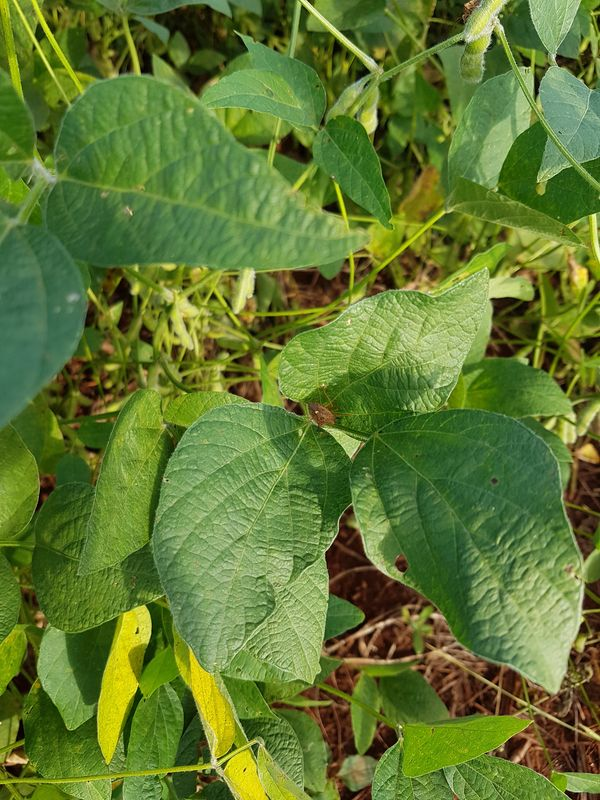Euschistus_heros_adulto: (295, 383, 345, 437)
